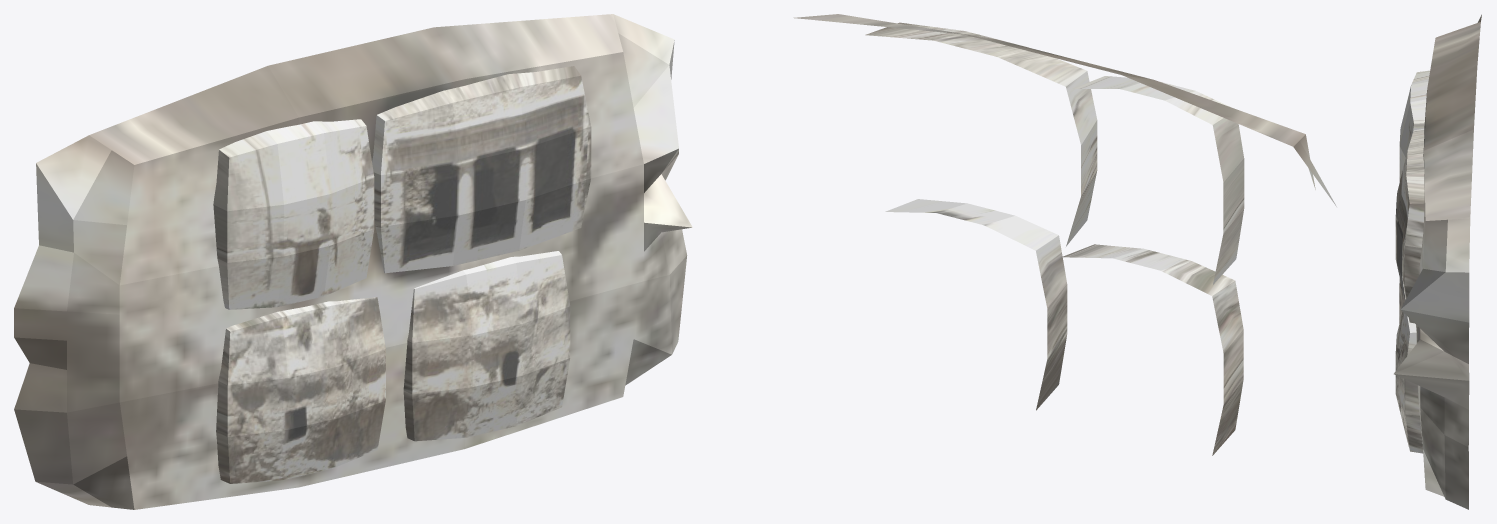
The model's file is tomb2.glb.
The picture shows the model from 3 angles, left to right: view 1: azimuth 30°, elevation 25°; view 2: azimuth 150°, elevation 25°; view 3: azimuth 270°, elevation 25°; orthographic projection. The views are drawn at different scales.
Parts seen in each view (by area): view 1: back, topright, bottomleft, topleft, bottomright; view 2: topright, bottomright, bottomleft, topleft, back; view 3: back, topright, bottomright, topleft, bottomleft.
Part boxes in pixels (x1,y1,x2,y2): back: (14,14,692,509); topright: (372,66,591,273); bottomleft: (216,297,385,483); topleft: (213,119,374,309); bottomright: (403,251,570,441); topright: (865,22,1097,246); bottomright: (885,199,1067,410); bottomleft: (1061,244,1243,455); topleft: (1072,76,1244,284); back: (793,14,1336,206); back: (1394,14,1481,509); topright: (1395,128,1424,323); bottomright: (1395,312,1423,453); topleft: (1399,70,1430,181); bottomleft: (1399,278,1404,323).
Size of the model in its own units: 13.45 by 8.24 by 2.
1 material, 1 textured.
